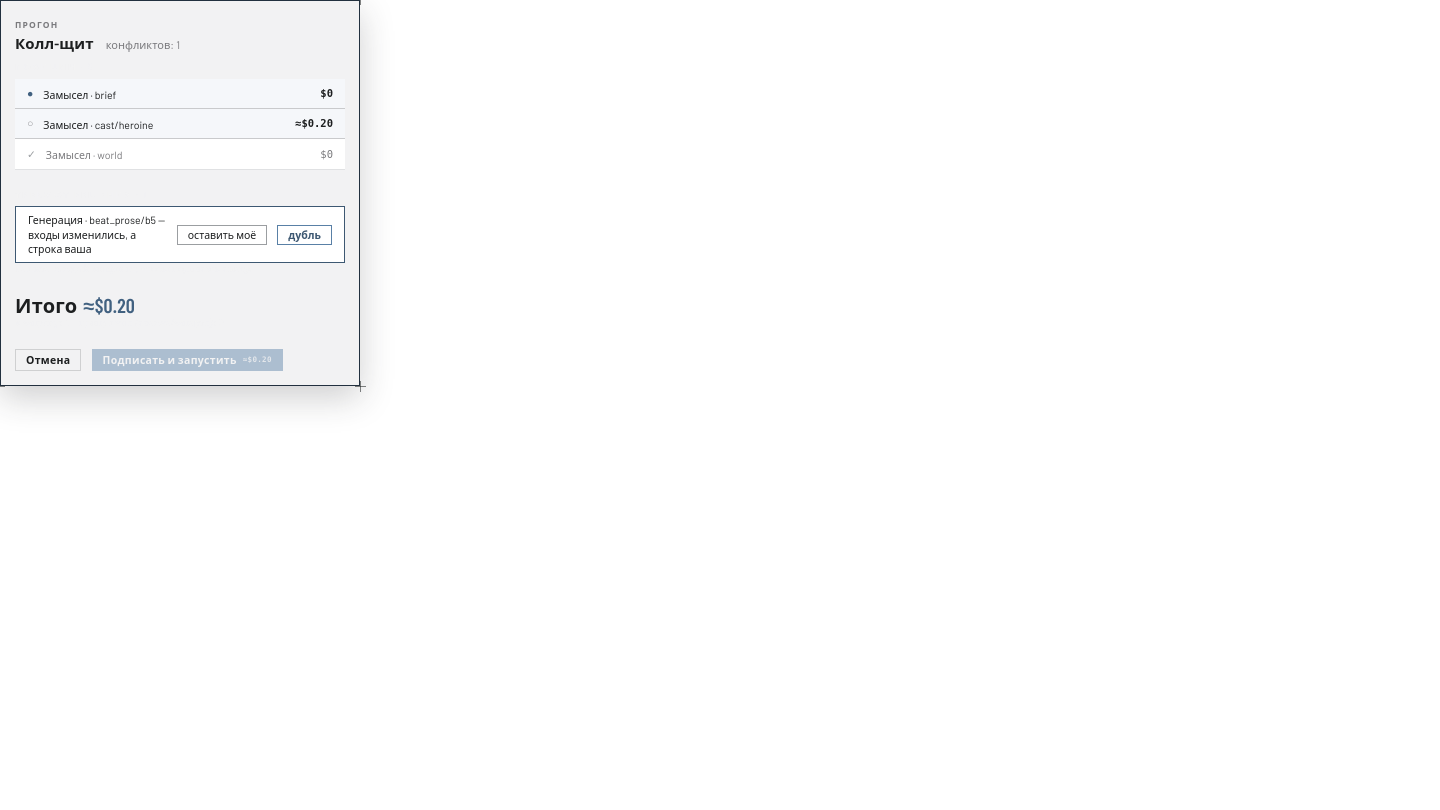
CallSheetPanel, решение конфликта › дубль дороже: заказанная работа поднимает цену подписи на глазах
Click the button "дубль" at [305, 235], box [277, 225, 332, 245]
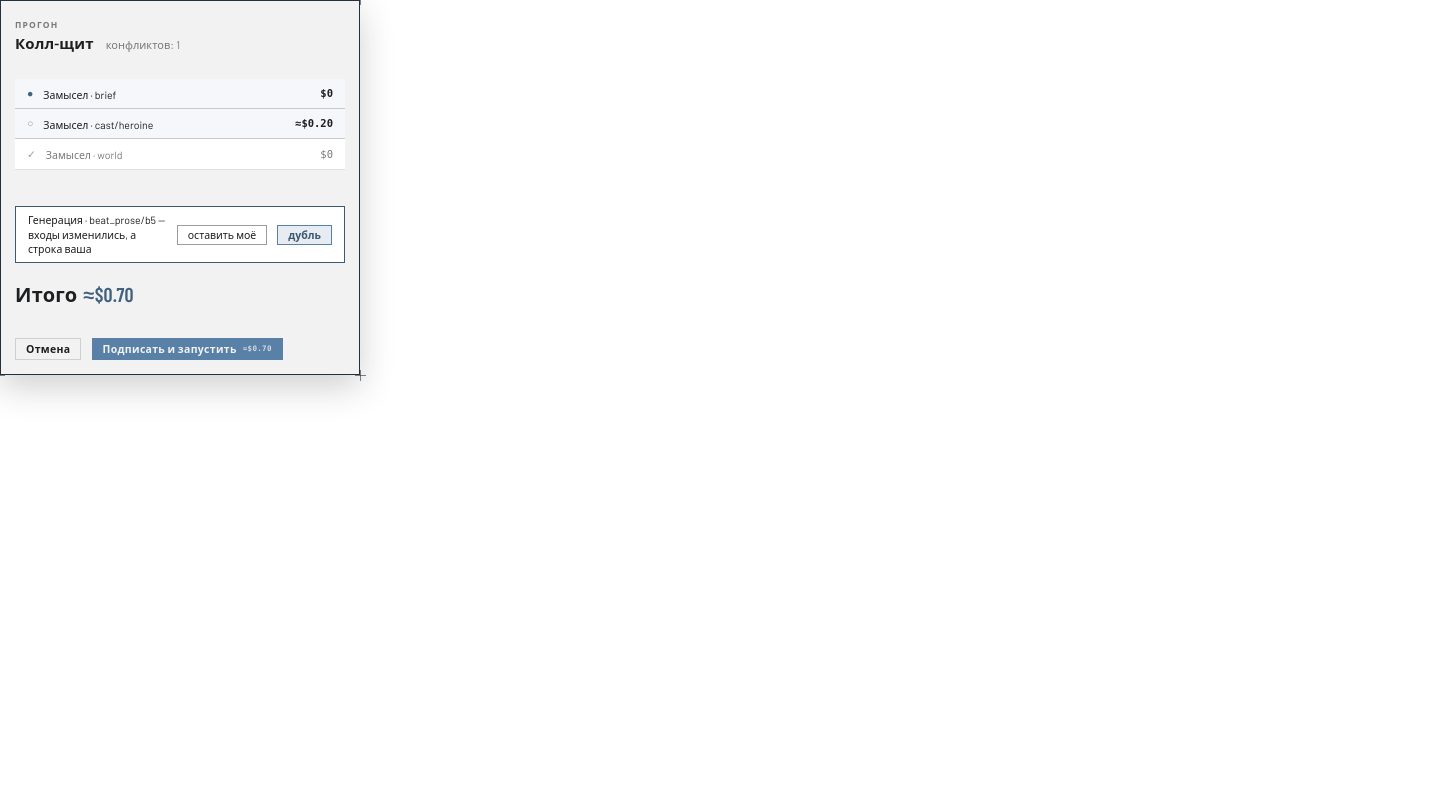
expect the text "к запуску: 2 · пропущено (свежее/заперто): 2" is shown: met, box [15, 305, 224, 317]
